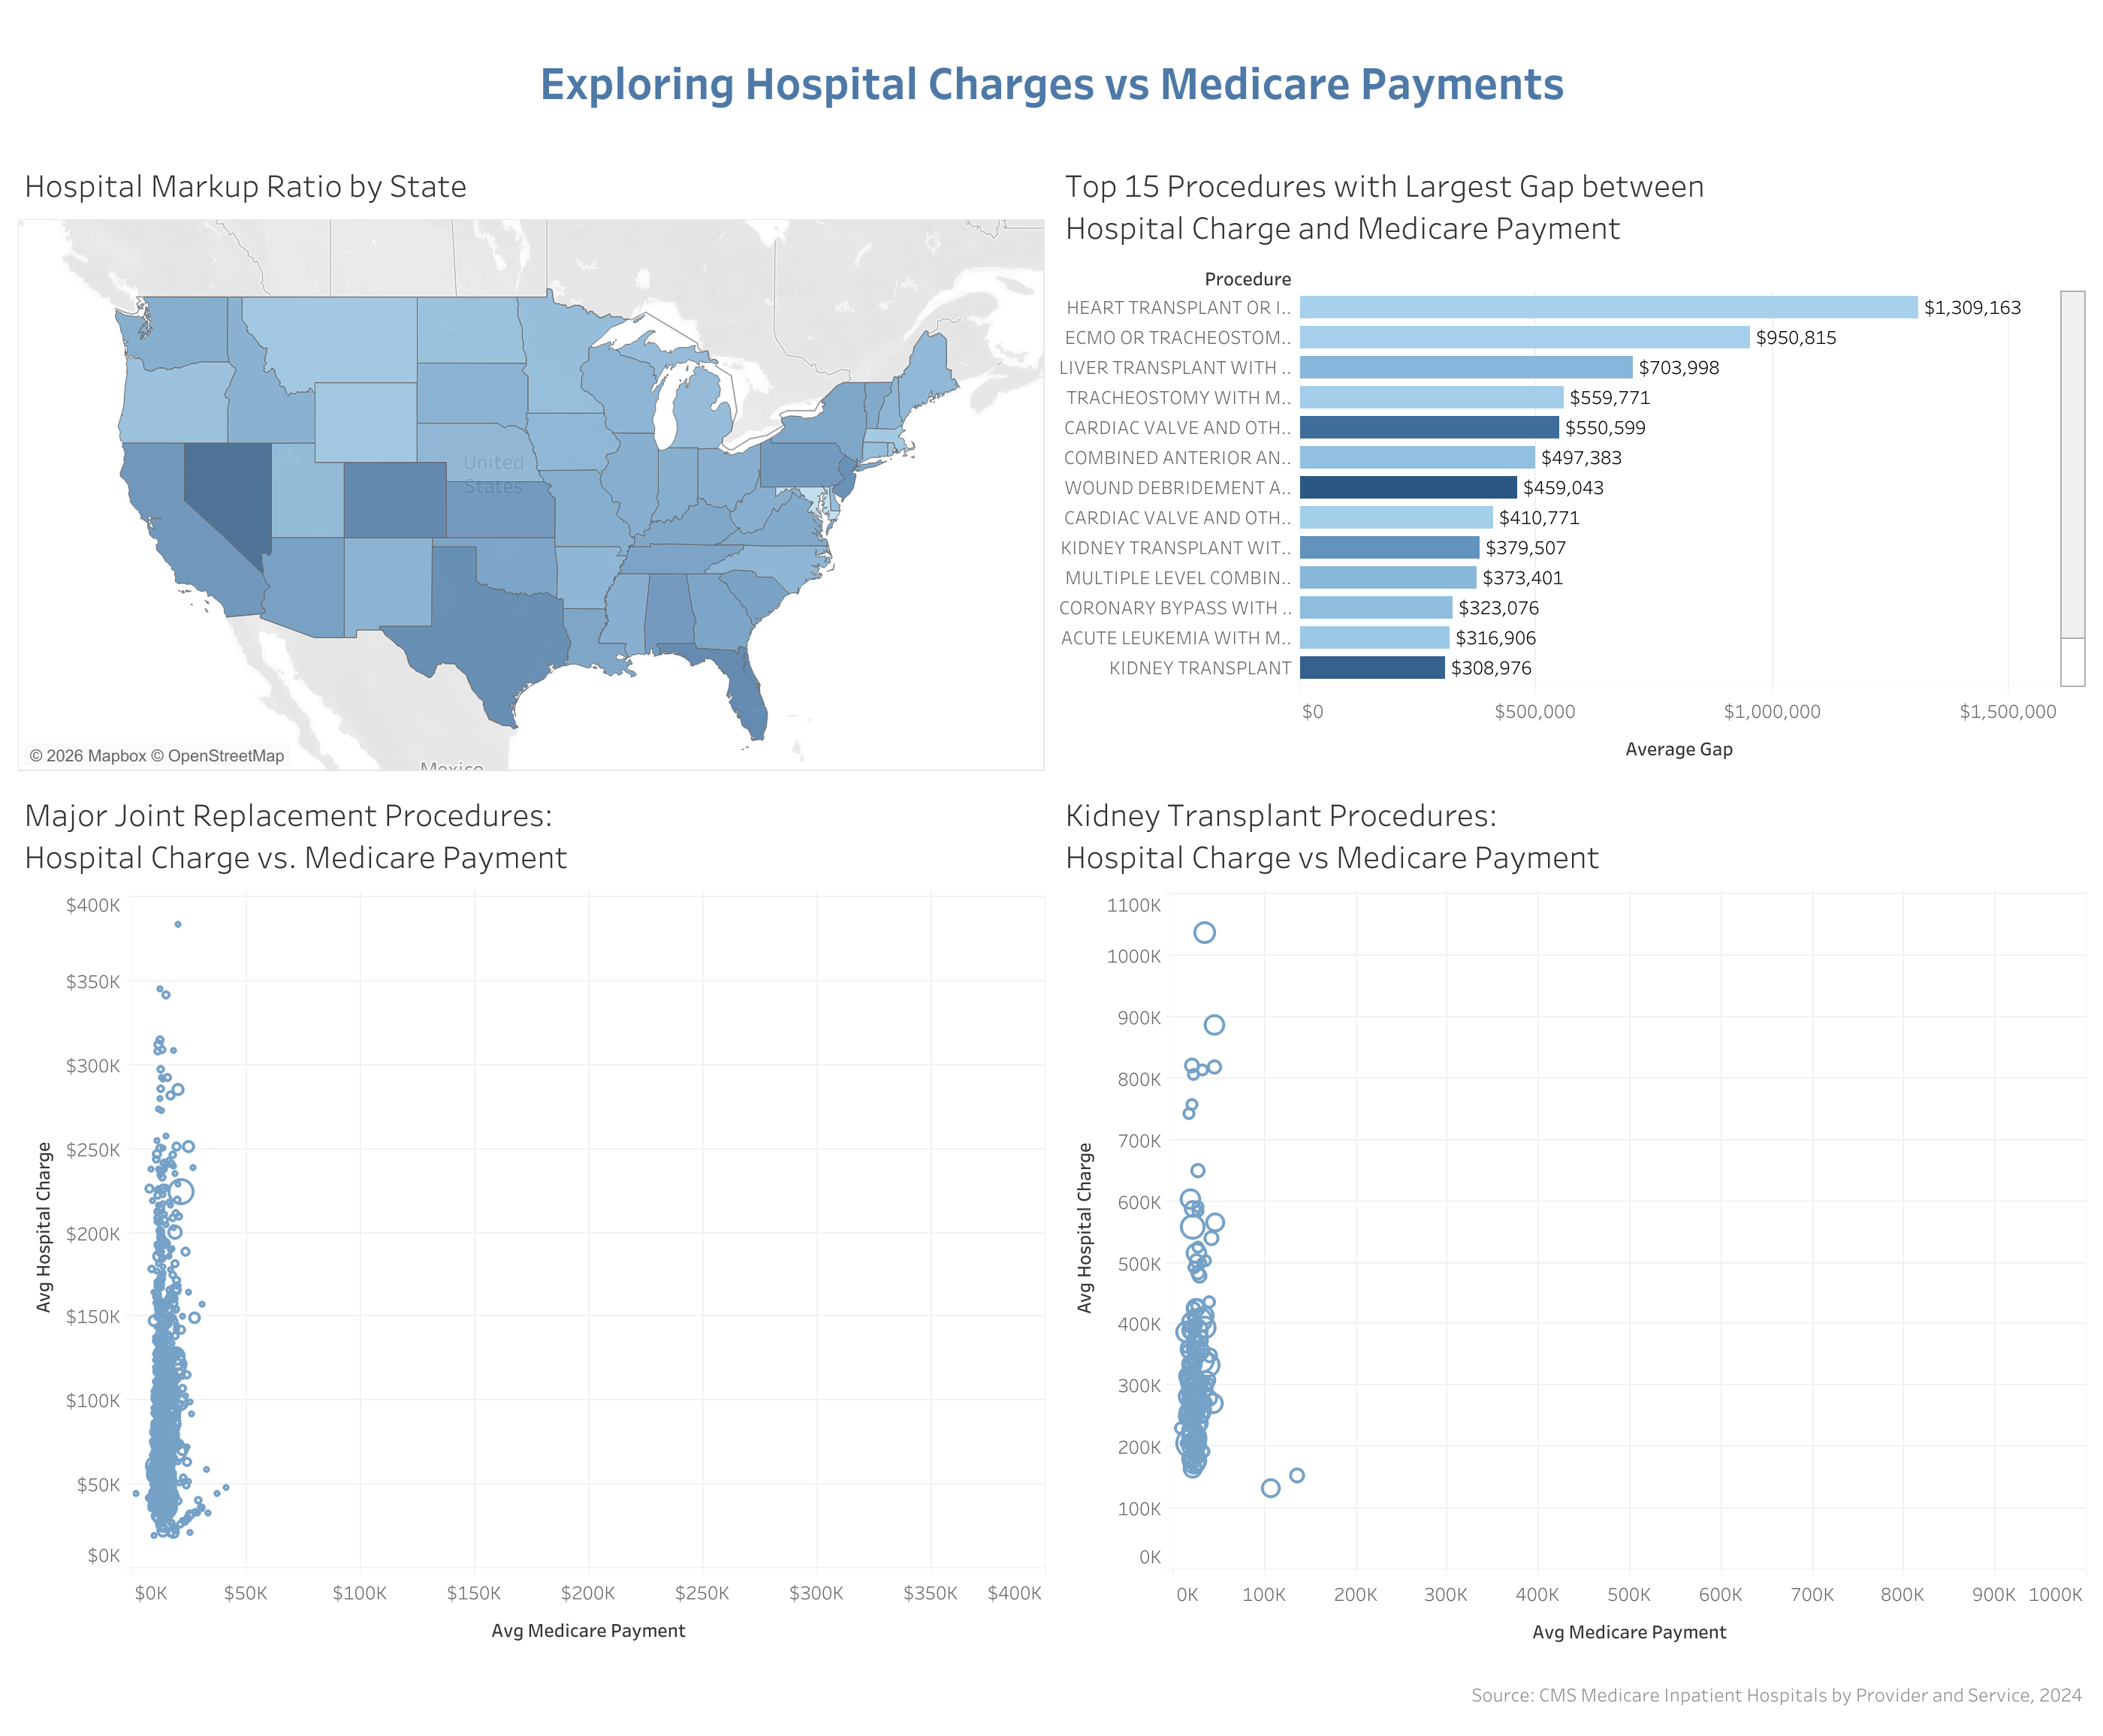

The page's visual inventory and layout, read from the dashboard file:
{"tool":"tableau","page":{"name":"Dashboard 1","canvas":[1366,768],"ordinal":0},"visuals":[{"type":"text","box":[8,8,1350,60.3]},{"type":"worksheet","title":"Hospital Markup Ratio by State","mark":"Multipolygon","box":[8,68.3,675,329.9]},{"type":"worksheet","title":"Top 15 Procedures with Largest Gap","mark":"Automatic","rows":["DRG_Desc"],"cols":["avg_gap"],"box":[683,68.3,675,329.9]},{"type":"worksheet","title":"Hip Replacement Billing","mark":"Automatic","rows":["avg_charge"],"cols":["avg_medicare_pmt"],"box":[8,398.1,675,329.9]},{"type":"worksheet","title":"Kidney Transplant Billing","mark":"Automatic","rows":["avg_charge"],"cols":["avg_medicare_pmt"],"box":[683,398.1,675,329.9]},{"type":"text","box":[8,728,1350,32]}]}

Visuals, with their boxes on the page's 1366x768 design canvas (x1, y1, x2, y2). These are canvas units, not pixel positions in the 2103x1736 screenshot, which may show the page scaled, cropped or inside an application window:
text: {"x1": 8, "y1": 8, "x2": 1358, "y2": 68}
"Hospital Markup Ratio by State" worksheet (Multipolygon marks): {"x1": 8, "y1": 68, "x2": 683, "y2": 398}
"Top 15 Procedures with Largest Gap" worksheet: {"x1": 683, "y1": 68, "x2": 1358, "y2": 398}
"Hip Replacement Billing" worksheet: {"x1": 8, "y1": 398, "x2": 683, "y2": 728}
"Kidney Transplant Billing" worksheet: {"x1": 683, "y1": 398, "x2": 1358, "y2": 728}
text: {"x1": 8, "y1": 728, "x2": 1358, "y2": 760}
